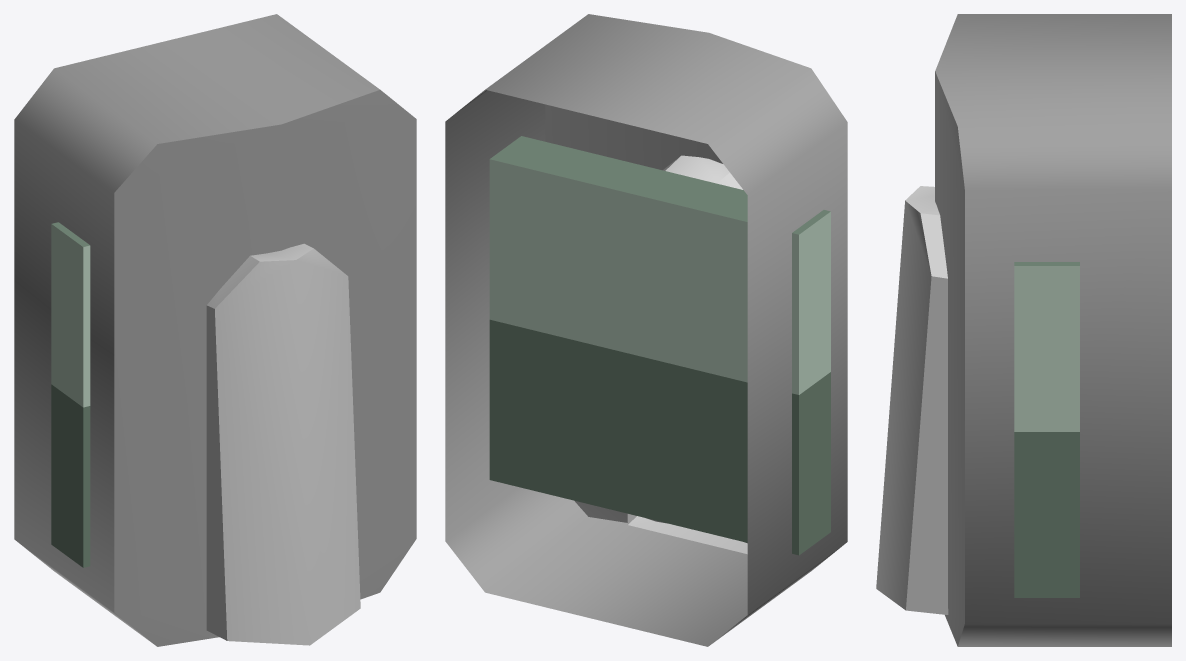
Rendered from soap.fbx.
The picture shows the model from 3 angles, left to right: view 1: azimuth 30°, elevation 25°; view 2: azimuth 150°, elevation 25°; view 3: azimuth 270°, elevation 25°; orthographic projection. The views are drawn at different scales.
Parts seen in each view (by area): view 1: Cube.002; view 2: Cube.002; view 3: Cube.002.
Boxes of the visible parts, <box> form: Cube.002: <box>14,14,416,646</box>; Cube.002: <box>445,14,847,646</box>; Cube.002: <box>876,14,1171,646</box>.
Bounding box in the file's own units: 27.11 × 41.1 × 21.16.
